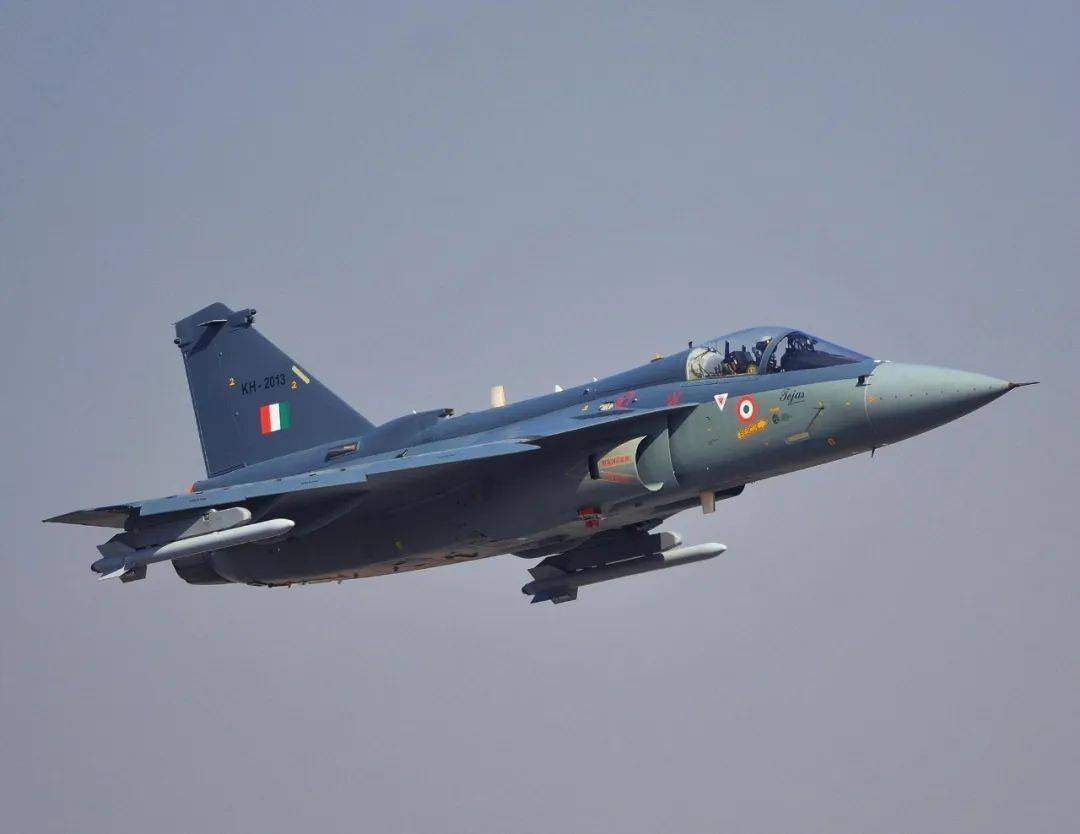airplane: (30, 294, 1042, 609)
